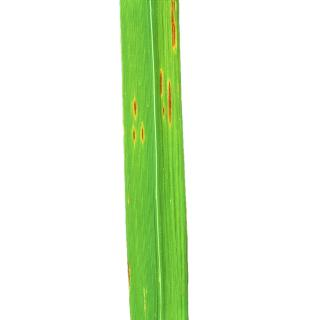Bercak-Cokelat-Sempit: (163, 0, 181, 51), (126, 124, 150, 154), (165, 78, 175, 128), (154, 62, 166, 98), (130, 94, 142, 120)
